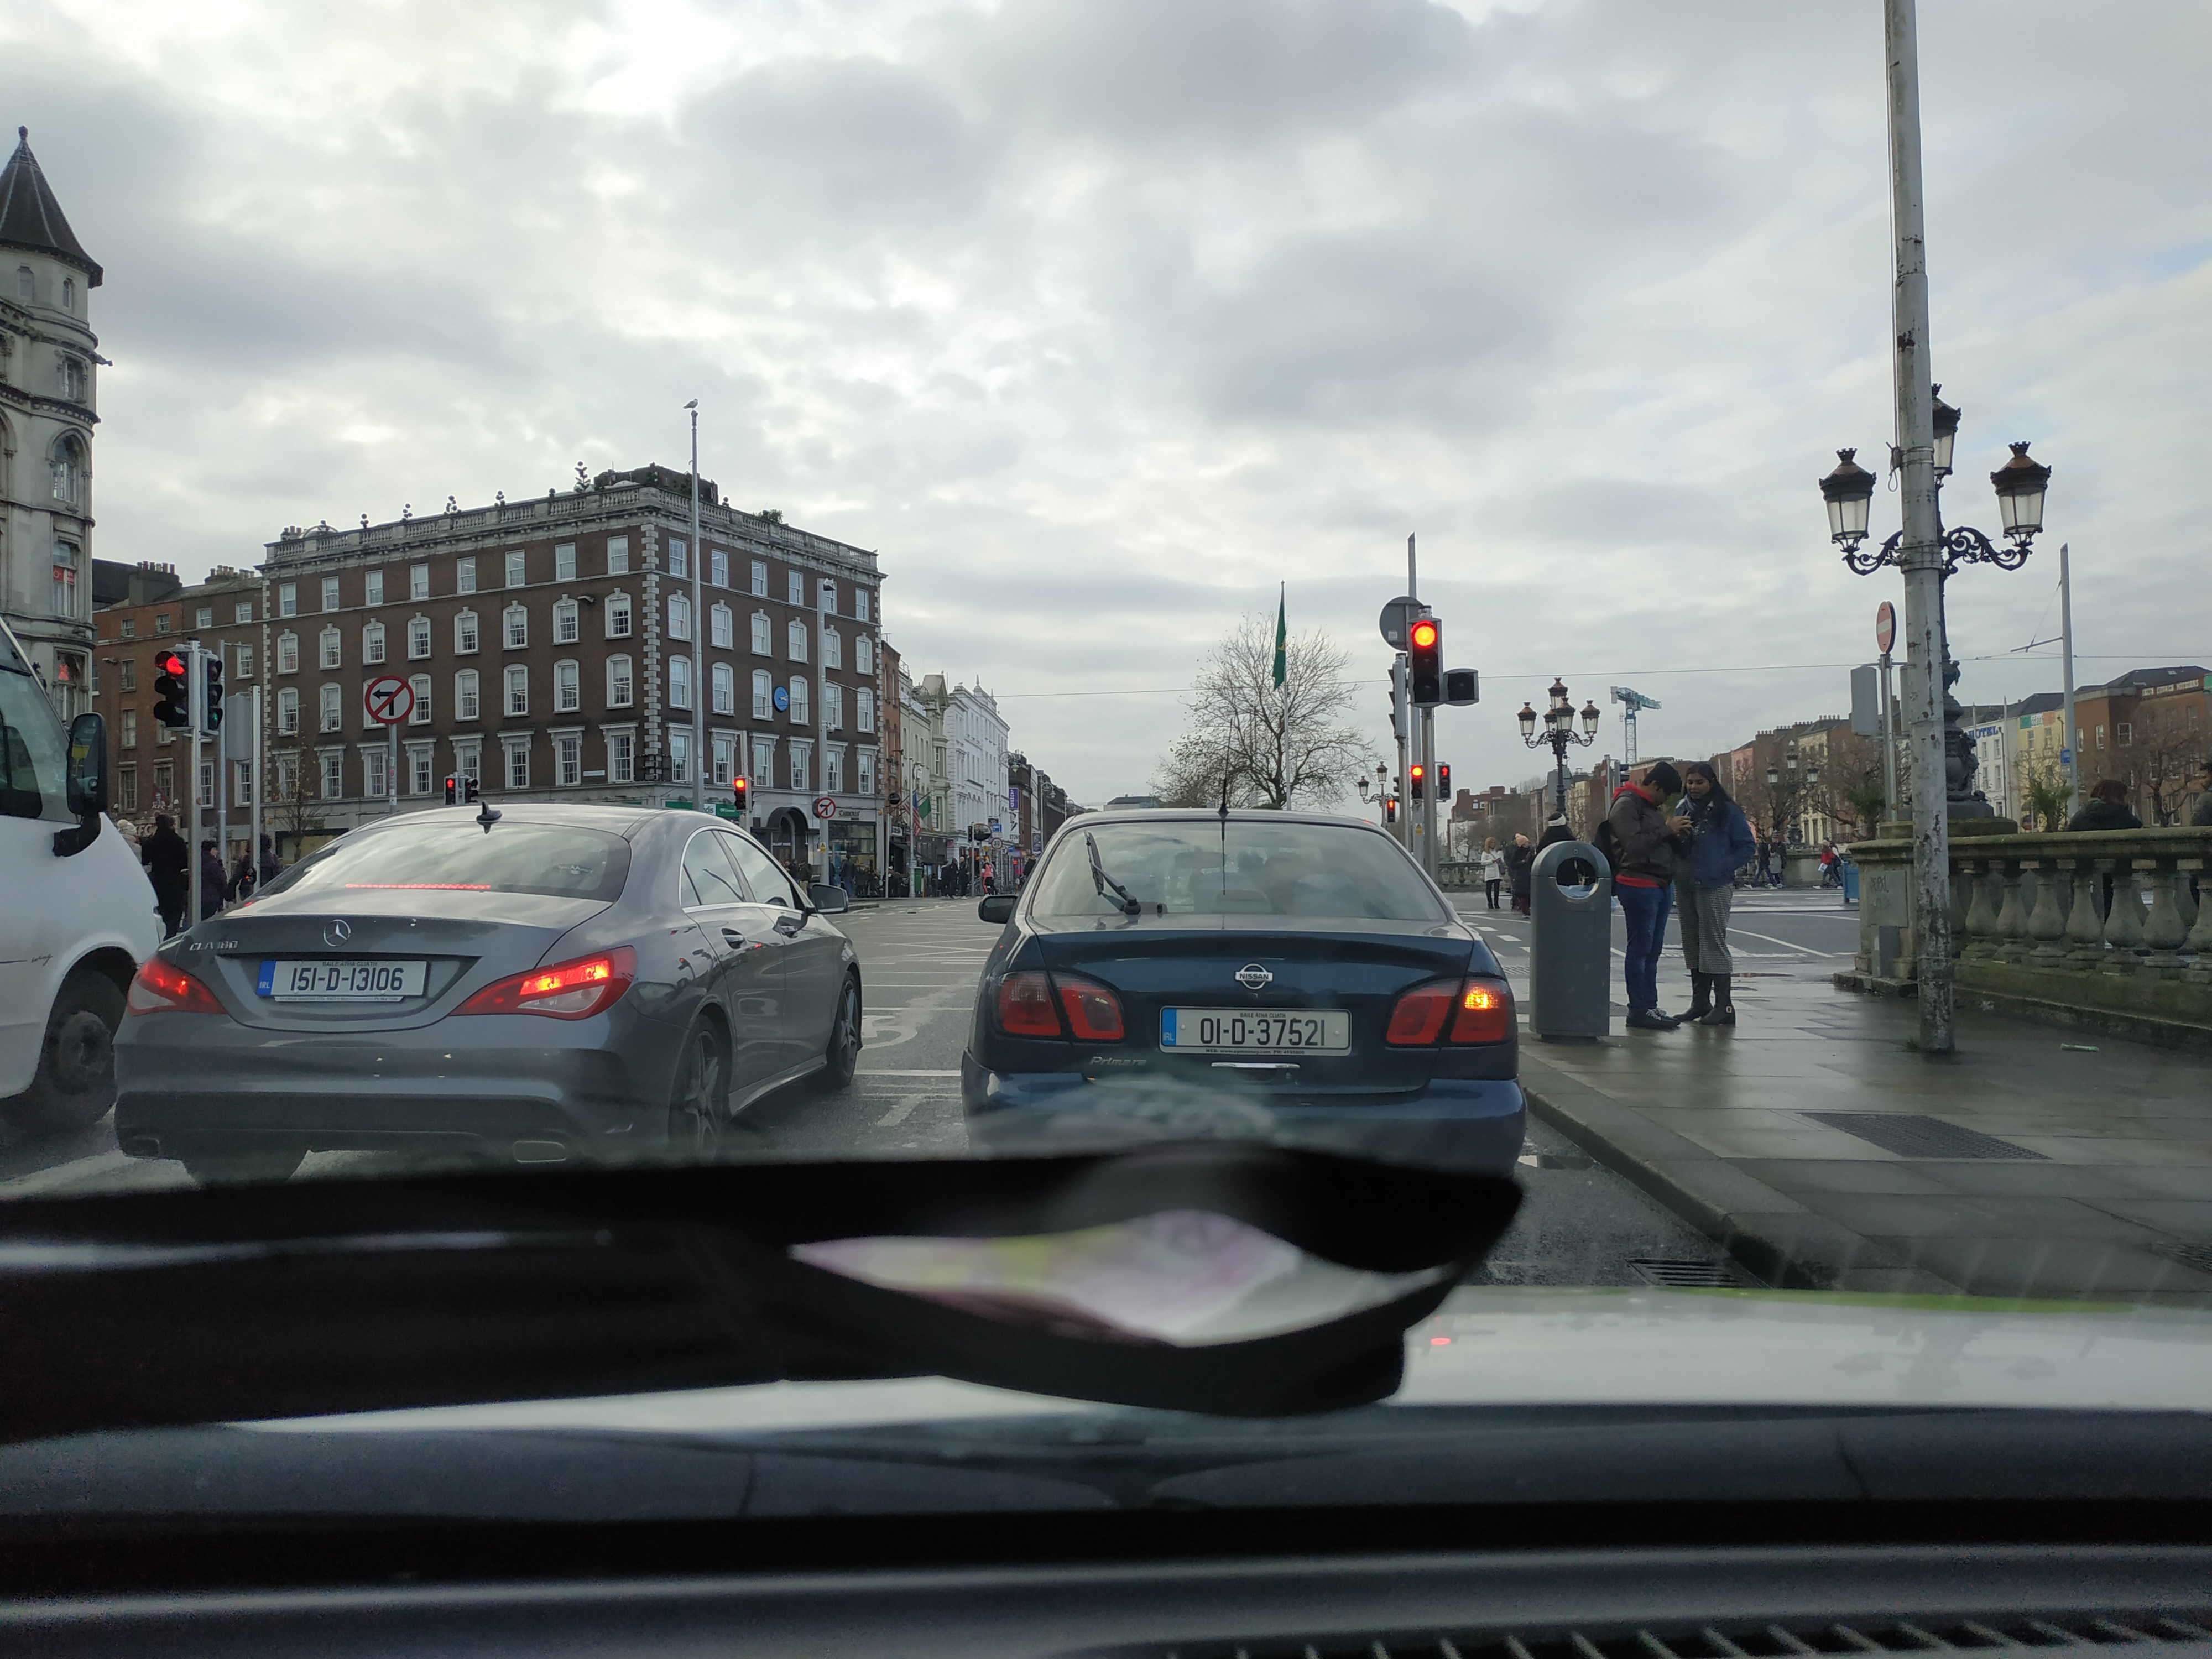Car: (118, 804, 863, 1164), (966, 806, 1524, 1178)
Person: (1665, 761, 1755, 1031), (1592, 759, 1681, 1029), (142, 815, 189, 940), (230, 835, 282, 920), (189, 841, 226, 925), (1507, 833, 1533, 916), (1481, 837, 1504, 910), (1814, 838, 1844, 889), (1766, 834, 1787, 889)
Van: (1, 627, 167, 1125)
